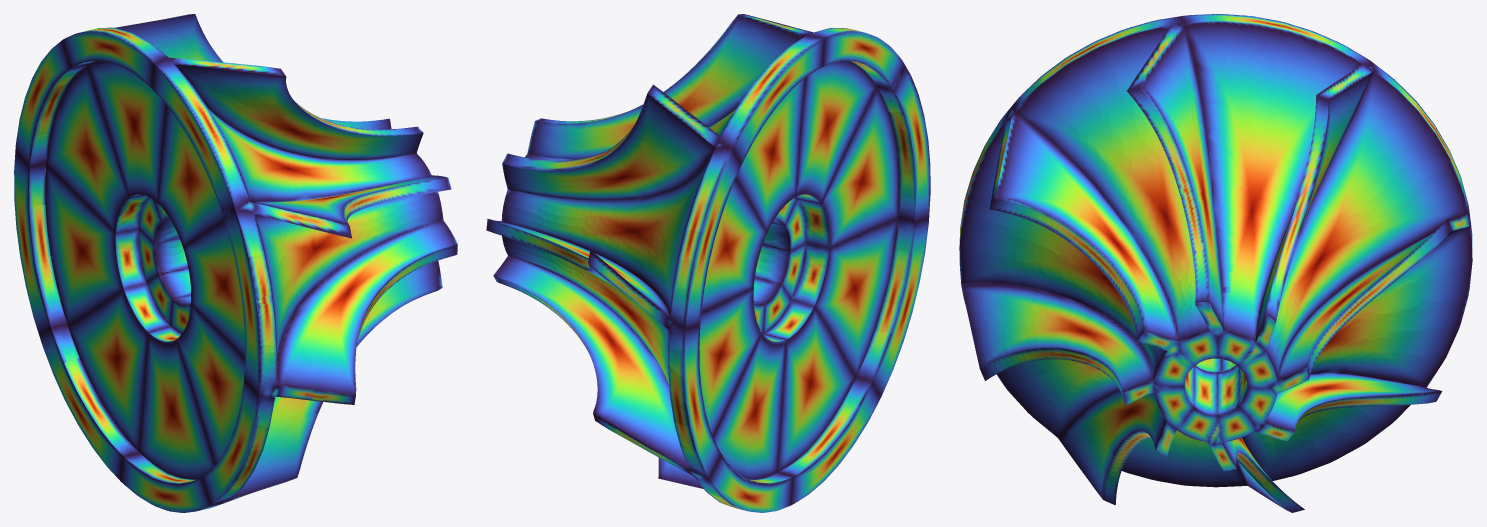
File: gen3.glb
The picture shows the model from 3 angles, left to right: view 1: azimuth 30°, elevation 25°; view 2: azimuth 150°, elevation 25°; view 3: azimuth 270°, elevation 25°; orthographic projection. The views are drawn at different scales.
Visible parts, largest first — view 1: Node; view 2: Node; view 3: Node.
Part boxes in pixels (x1=…): Node: x1=14, y1=14, x2=457, y2=512; Node: x1=486, y1=14, x2=930, y2=512; Node: x1=959, y1=14, x2=1472, y2=512.
Bounding box in the file's own units: 1.29 × 2 × 2.
Materials: 1 (1 with a texture image).
